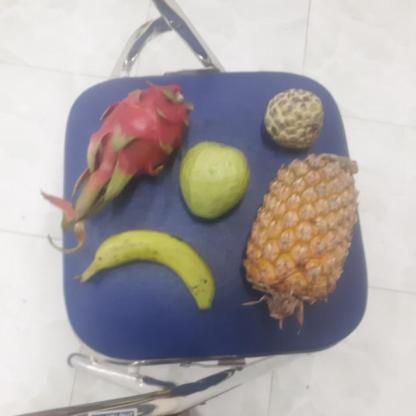annona: (262, 90, 324, 149)
banana: (78, 231, 214, 303)
guava: (175, 142, 249, 219)
pineapple: (244, 155, 355, 308)
pitaya: (88, 83, 187, 185)
